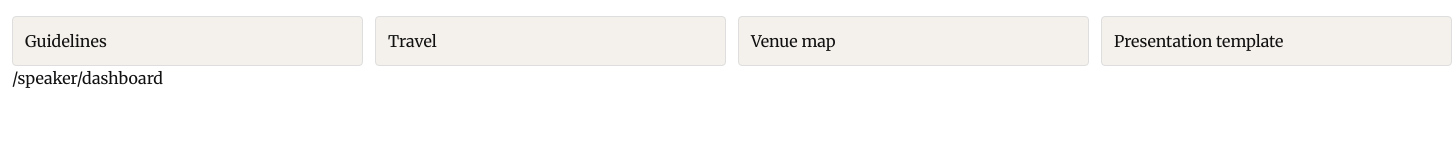
Test: SpeakerResourceCard › routes the venue map to the page anchor with normal routing
The width and height of the screenshot is (1452, 160).
Click the link "Venue map": click(793, 41) [738,16,1089,66]
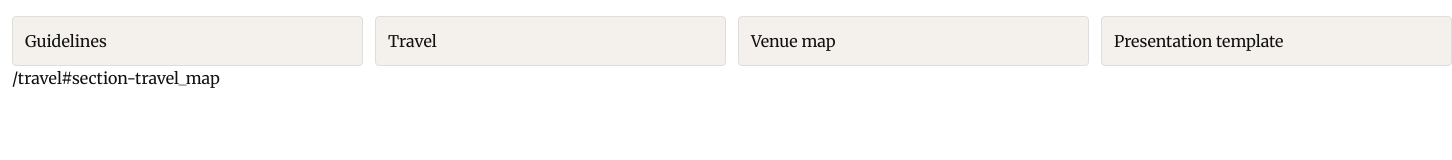
Expected: the text named "Current location" reads "/travel#section-travel_map", [12,68,220,88]
